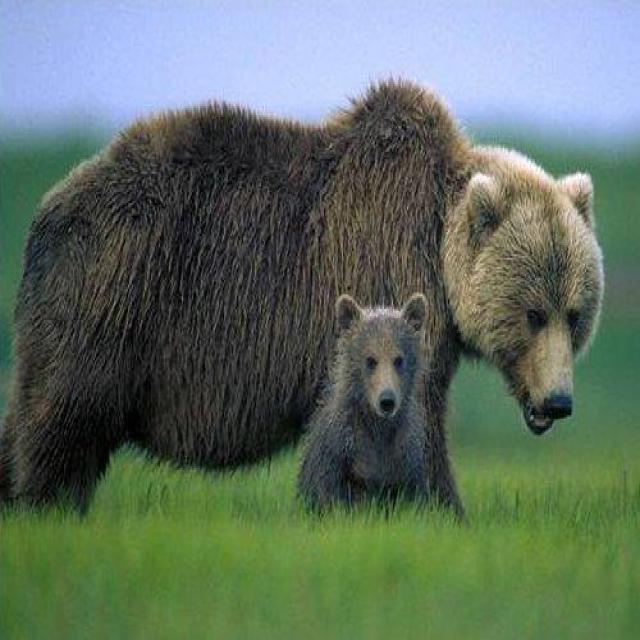Bear: (14, 80, 602, 516), (300, 298, 424, 508)
